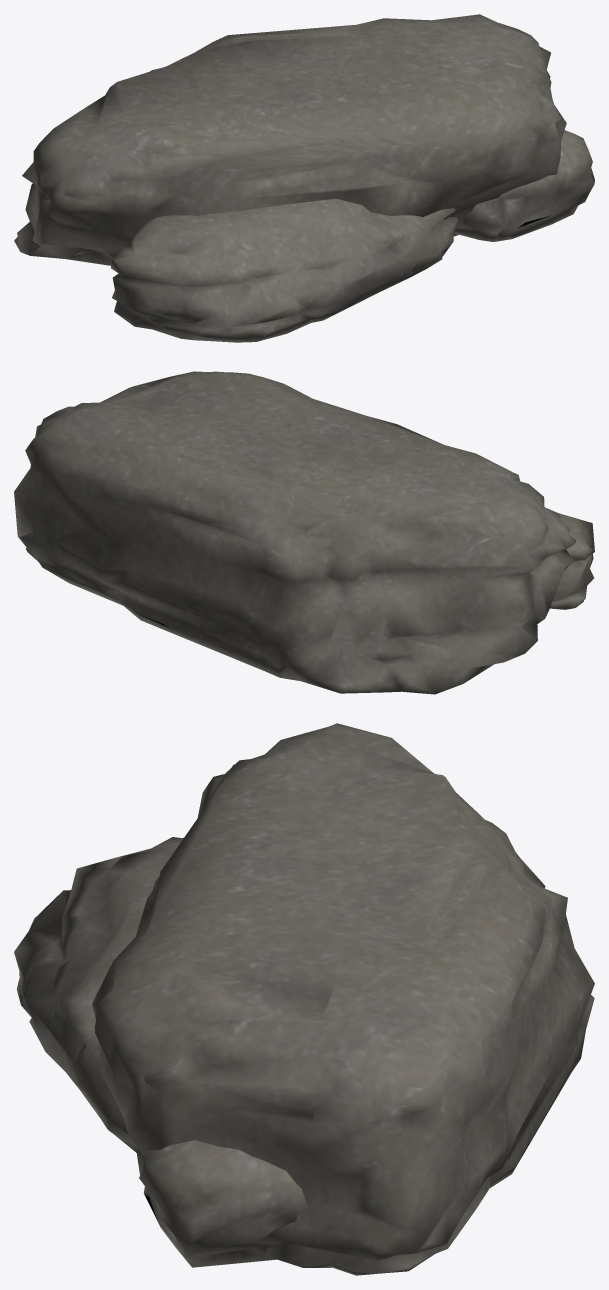
Rendered from river_ledge_LOD1.fbx.
The picture shows the model from 3 angles, top to bottom: view 1: azimuth 30°, elevation 25°; view 2: azimuth 150°, elevation 25°; view 3: azimuth 270°, elevation 25°; orthographic projection. The views are drawn at different scales.
Parts seen in each view (by area): view 1: river_ledge_LOD1; view 2: river_ledge_LOD1; view 3: river_ledge_LOD1.
Boxes of the visible parts, x1,y1,x2,y2 form: river_ledge_LOD1: (14, 14, 594, 342); river_ledge_LOD1: (14, 371, 594, 694); river_ledge_LOD1: (14, 723, 594, 1275).
Size of the model in its own units: 599 by 179 by 400.
